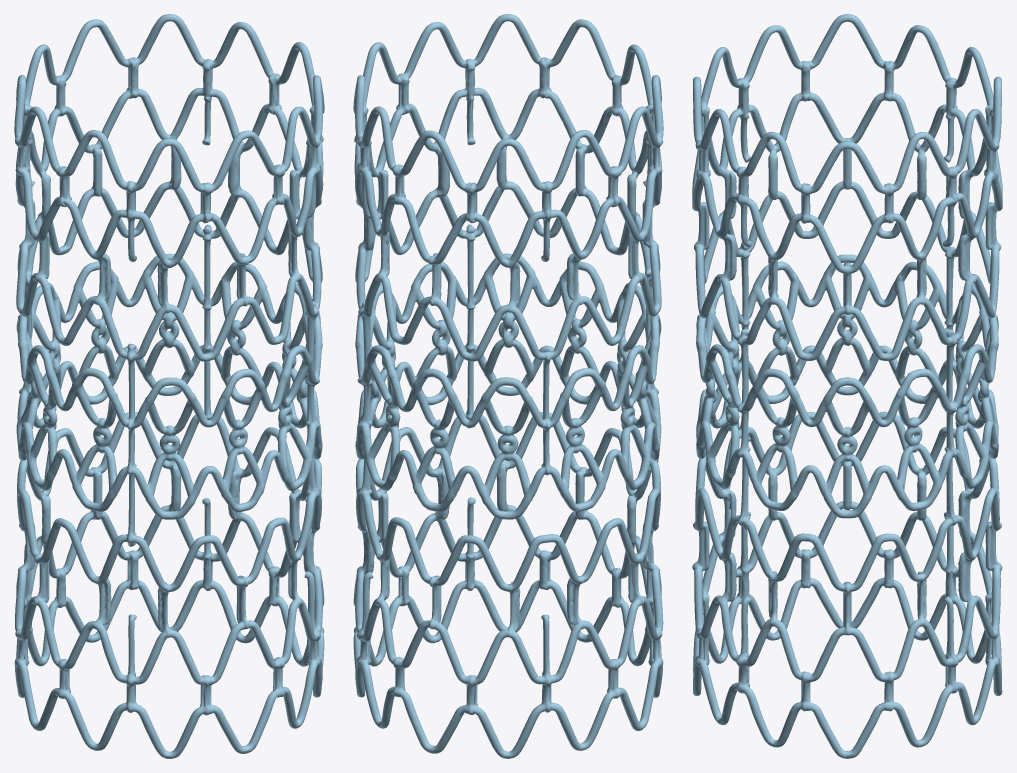
File: aero-laser-cut-uncovered.glb
The picture shows the model from 3 angles, left to right: view 1: azimuth 30°, elevation 25°; view 2: azimuth 150°, elevation 25°; view 3: azimuth 270°, elevation 25°; orthographic projection.
Parts seen in each view (by area): view 1: aero-laser-cut-uncovered-01; view 2: aero-laser-cut-uncovered-01; view 3: aero-laser-cut-uncovered-01.
Boxes of the visible parts, x1,y1,x2,y2 form: aero-laser-cut-uncovered-01: [14, 14, 324, 758]; aero-laser-cut-uncovered-01: [353, 14, 663, 758]; aero-laser-cut-uncovered-01: [692, 14, 1002, 758].
Size of the model in its own units: 0.9149 by 2 by 0.9132.
